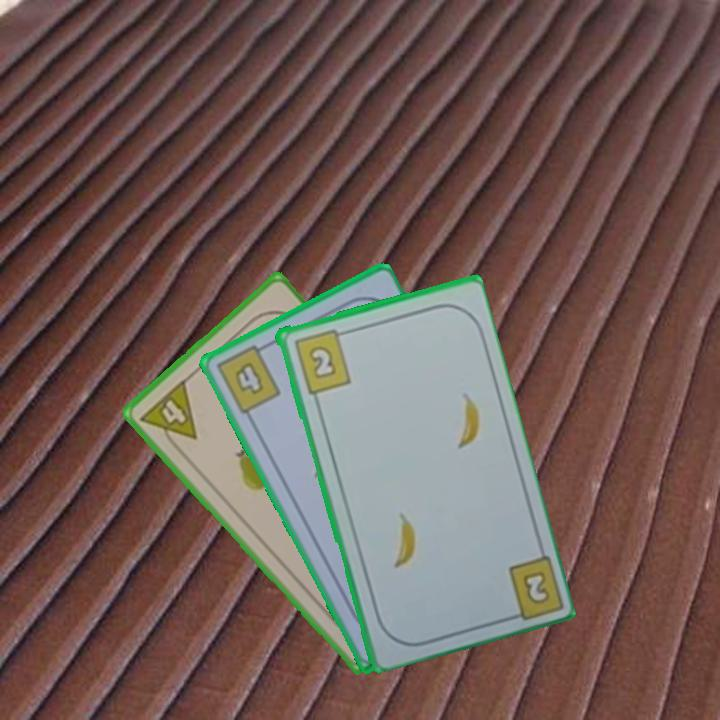2b: (290, 325, 353, 396), (518, 566, 553, 607)
4b: (212, 339, 284, 417)
4p: (136, 375, 200, 456)
